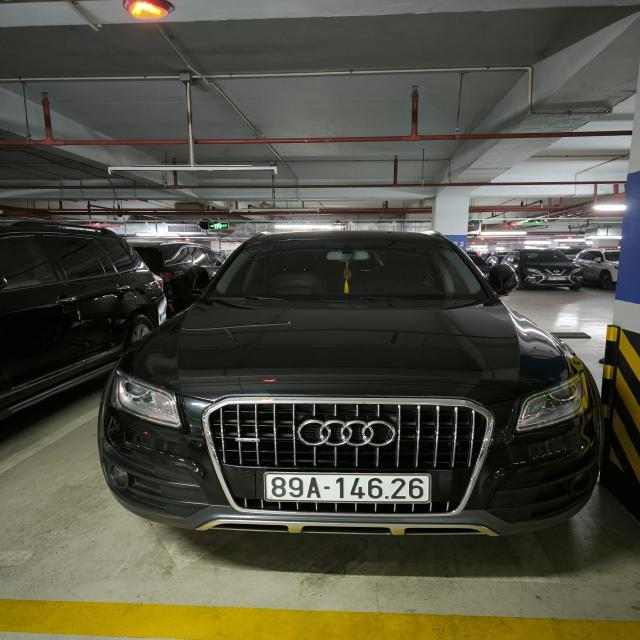license: (262, 470, 431, 504)
